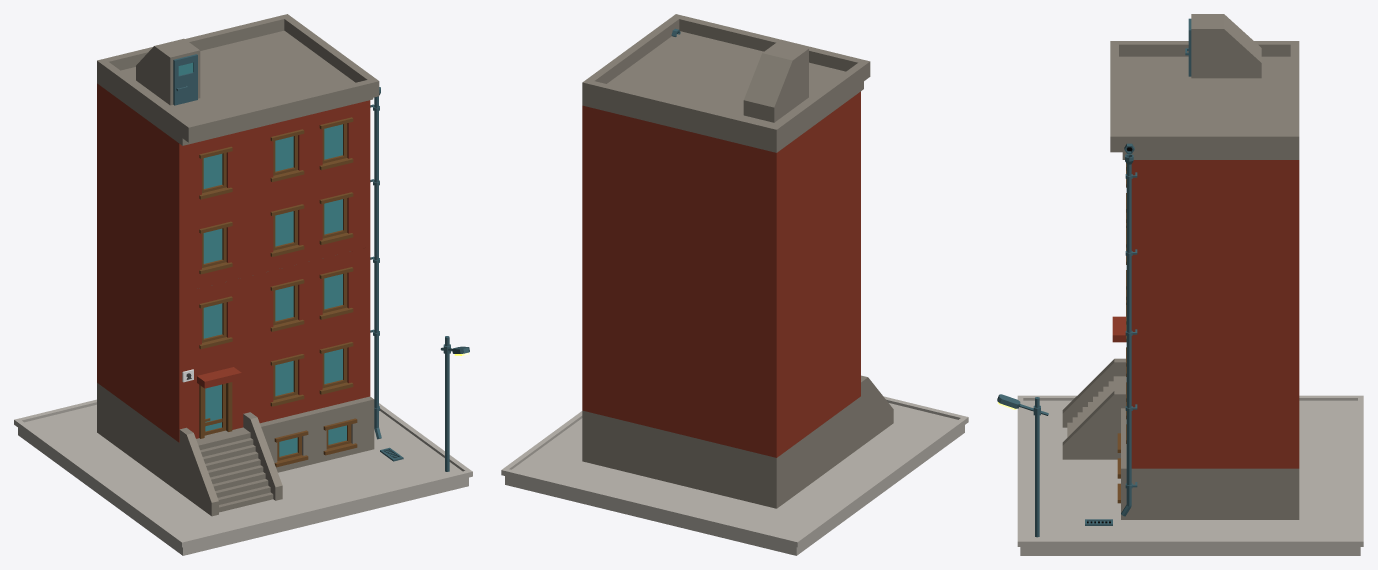
Rendered from building.glb.
3 views of the same model, side by side, from view 1: azimuth 30°, elevation 25°; view 2: azimuth 150°, elevation 25°; view 3: azimuth 270°, elevation 25° (orthographic). The views are drawn at different scales.
Parts seen in each view (by area): view 1: Box15819_Meat_0; view 2: Box15819_Meat_0; view 3: Box15819_Meat_0.
Part boxes in pixels (left/top/right/bottom): Box15819_Meat_0: left=14, top=14, right=472, bottom=555; Box15819_Meat_0: left=501, top=14, right=968, bottom=555; Box15819_Meat_0: left=997, top=14, right=1363, bottom=555.
Size of the model in its own units: 12.2 by 16.86 by 12.91.
